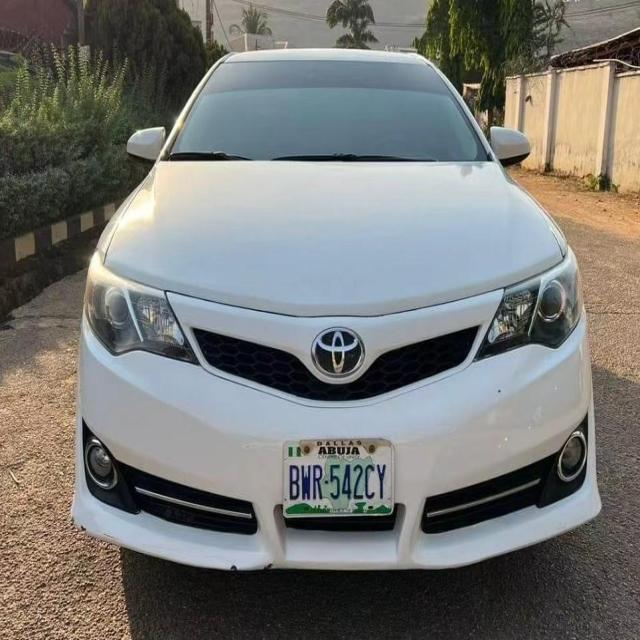Nigerian License Plate - vdataset benjamin-daria: (281, 433, 399, 532)
